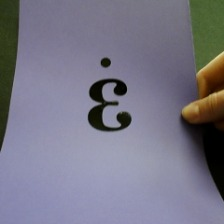violet3: (75, 54, 141, 135)
